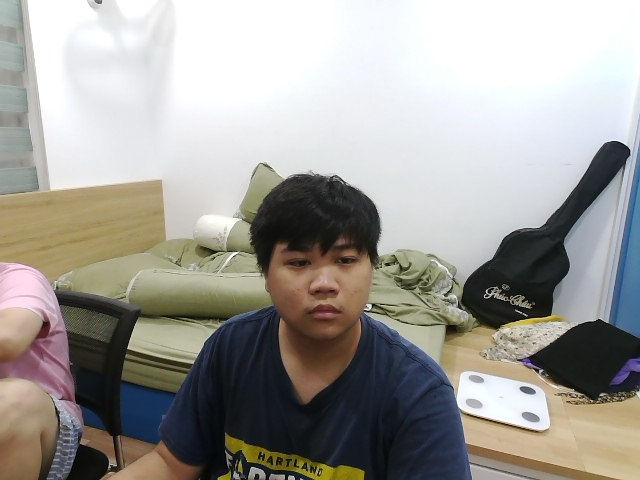face: (252, 174, 378, 342)
